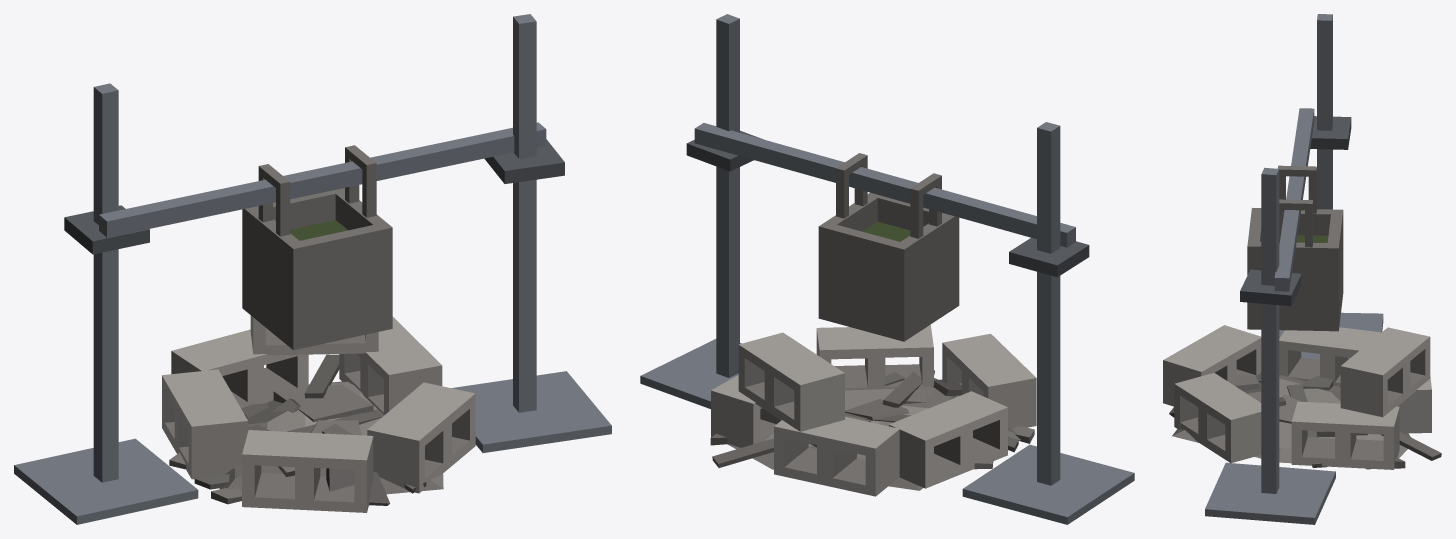
Rendered from AI_Prop_MakeShift_Firepit.fbx.
The picture shows the model from 3 angles, left to right: view 1: azimuth 30°, elevation 25°; view 2: azimuth 150°, elevation 25°; view 3: azimuth 270°, elevation 25°; orthographic projection. The views are drawn at different scales.
Parts seen in each view (by area): view 1: AI_Prop_MakeShift_Firepit; view 2: AI_Prop_MakeShift_Firepit; view 3: AI_Prop_MakeShift_Firepit.
Boxes of the visible parts, bbox=[...] form: AI_Prop_MakeShift_Firepit: bbox=[14, 14, 611, 524]; AI_Prop_MakeShift_Firepit: bbox=[640, 14, 1134, 524]; AI_Prop_MakeShift_Firepit: bbox=[1163, 14, 1441, 524].
Size of the model in its own units: 3.54 by 2.63 by 2.02.
